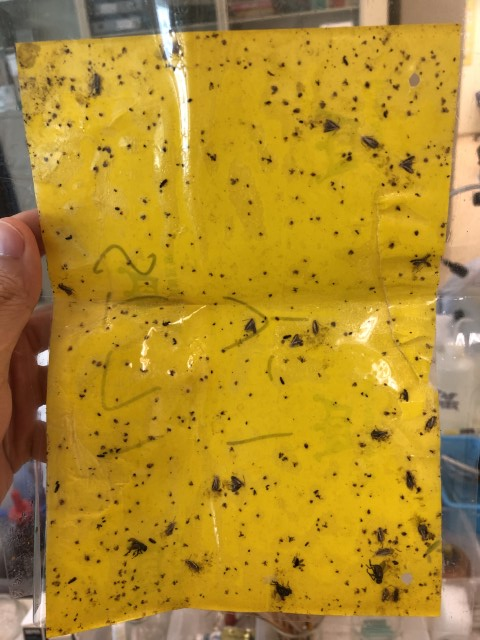DBM: (318, 115, 342, 137), (396, 153, 418, 176), (368, 423, 392, 444), (228, 472, 250, 494), (179, 554, 201, 575), (372, 544, 402, 558), (404, 469, 422, 492), (240, 315, 259, 336), (359, 133, 380, 151), (163, 514, 178, 538), (422, 414, 439, 435), (288, 333, 306, 350), (309, 318, 324, 337), (416, 522, 431, 541), (374, 525, 388, 545), (209, 473, 222, 493)
